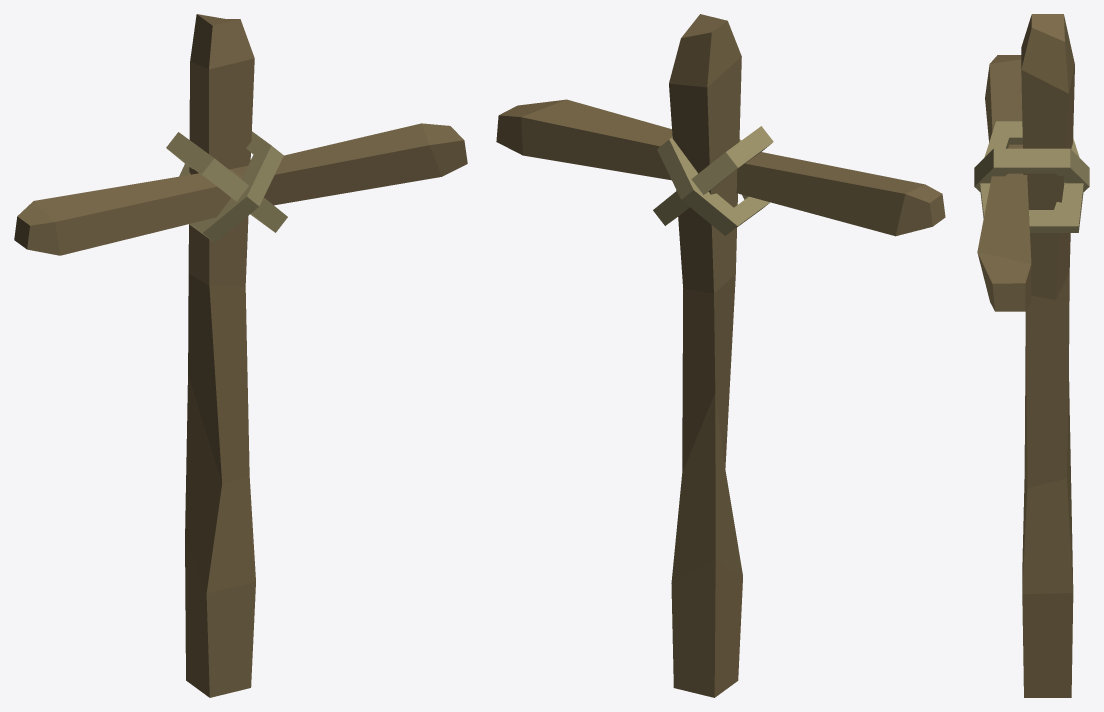
File: Grave_1.fbx
The picture shows the model from 3 angles, left to right: view 1: azimuth 30°, elevation 25°; view 2: azimuth 150°, elevation 25°; view 3: azimuth 270°, elevation 25°; orthographic projection.
Visible parts, largest first — view 1: Grave_1; view 2: Grave_1; view 3: Grave_1.
Boxes of the visible parts, x1,y1,x2,y2 form: Grave_1: (14,14,467,697); Grave_1: (496,14,945,697); Grave_1: (974,14,1089,697).
Size of the model in its own units: 82.81 by 120 by 18.8.
